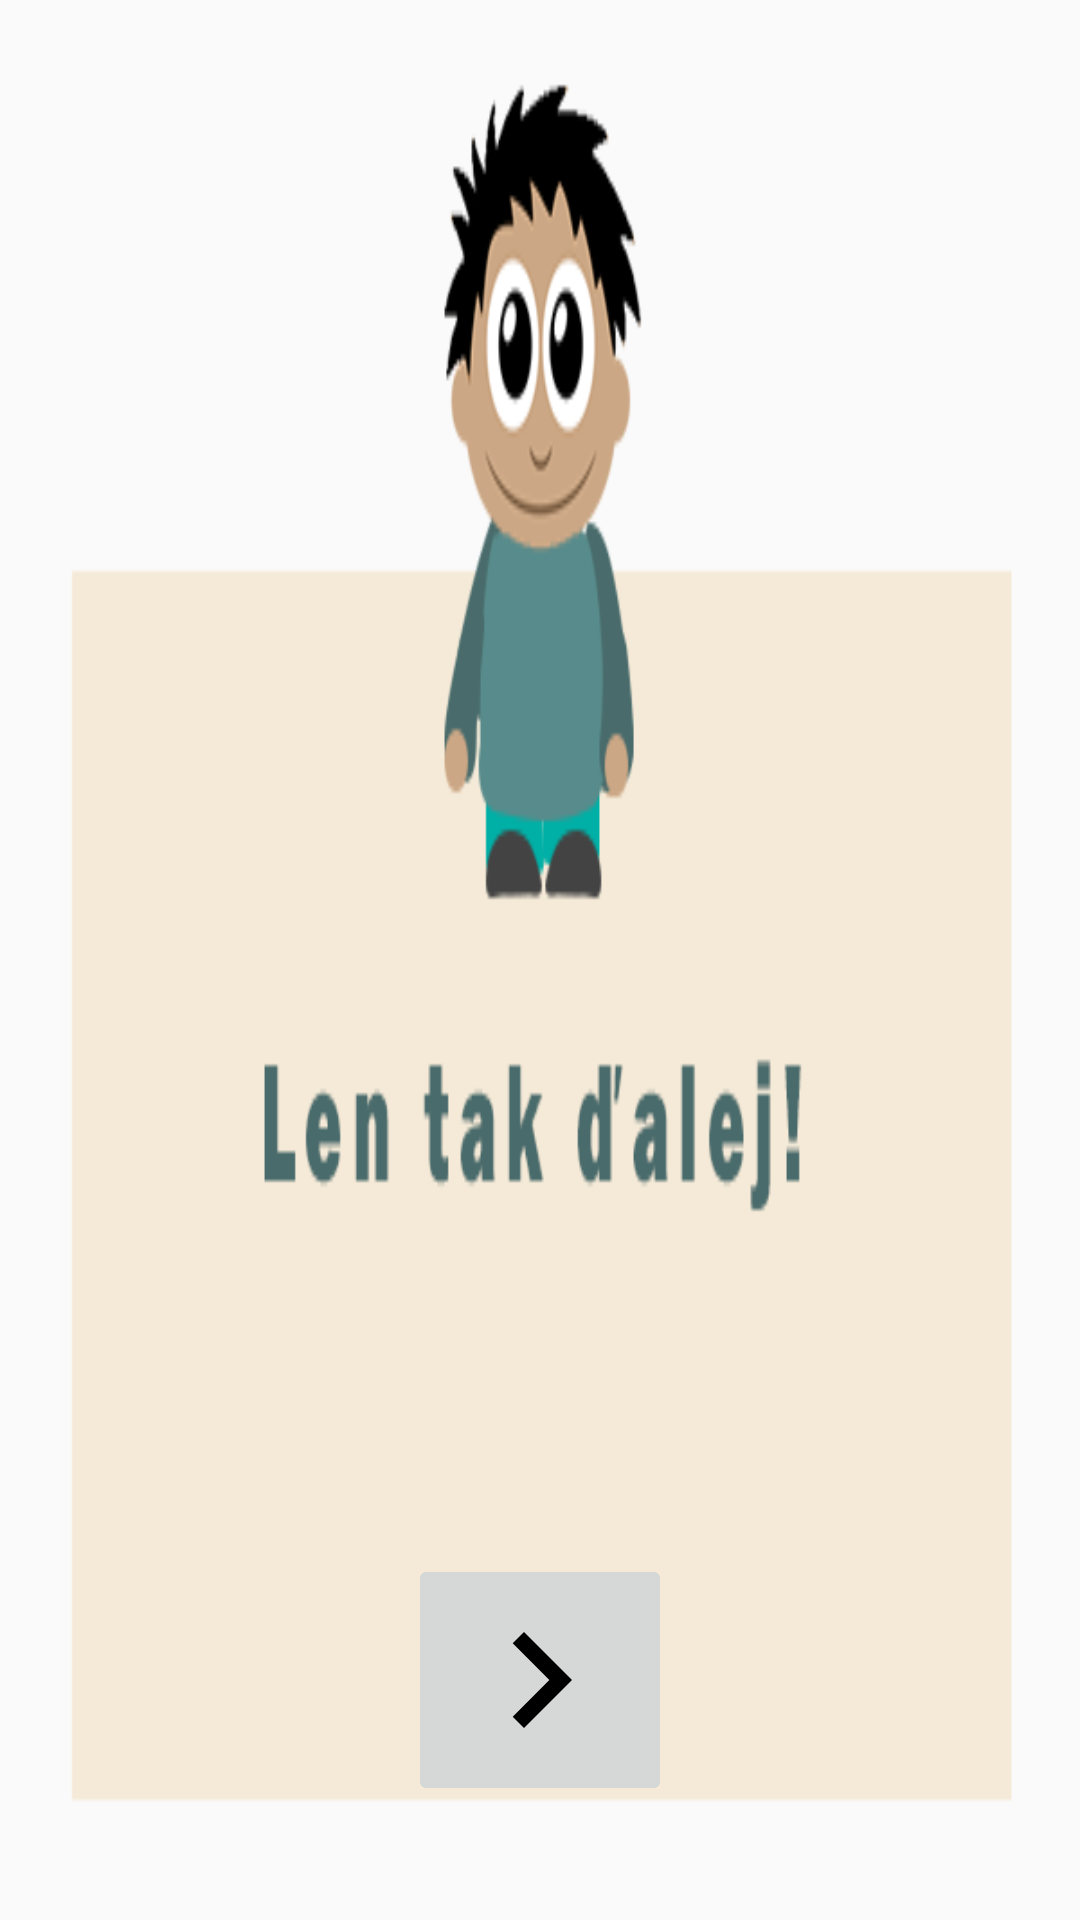

Screen size 1080*1920. Icon name, then its box in pixels as [x1,y1,x2,y2]:
next: [420,1572,660,1788]
